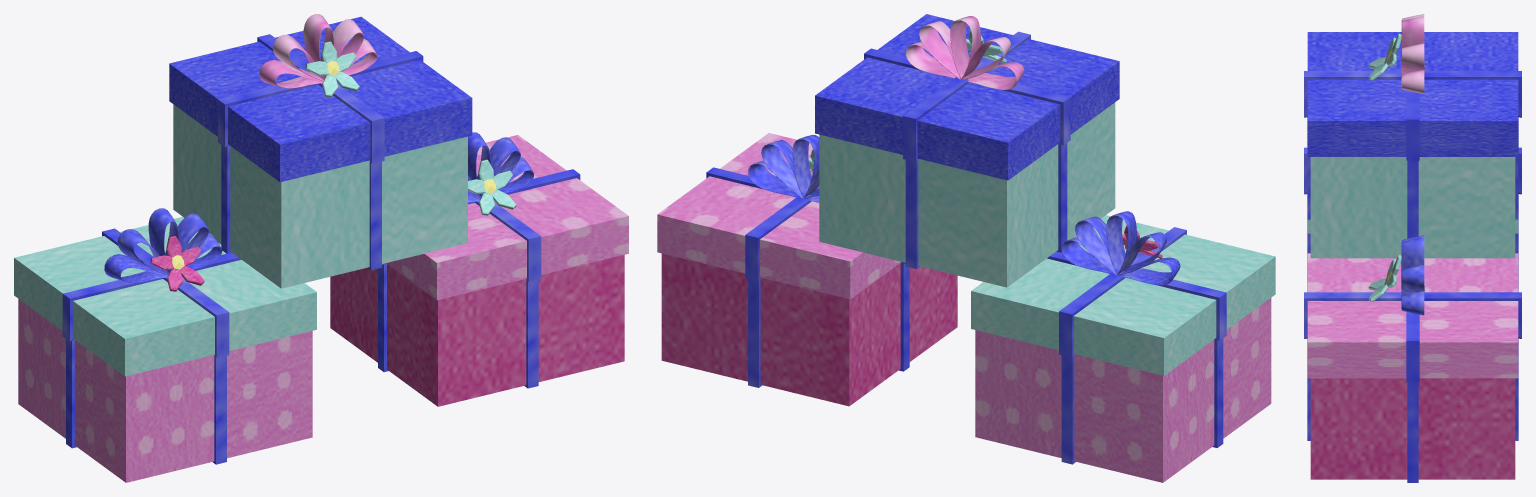
File: shop_3d_043.fbx
3 renders of one model, left to right at view 1: azimuth 30°, elevation 25°; view 2: azimuth 150°, elevation 25°; view 3: azimuth 270°, elevation 25°, orthographic. The views are drawn at different scales.
Visible parts, largest first — view 1: Cube.002; view 2: Cube.002; view 3: Cube.002.
Part boxes in pixels (bbox=[...]): Cube.002: bbox=[14, 14, 628, 482]; Cube.002: bbox=[657, 14, 1275, 482]; Cube.002: bbox=[1304, 14, 1521, 482].
Size of the model in its own units: 516 by 354 by 201.
